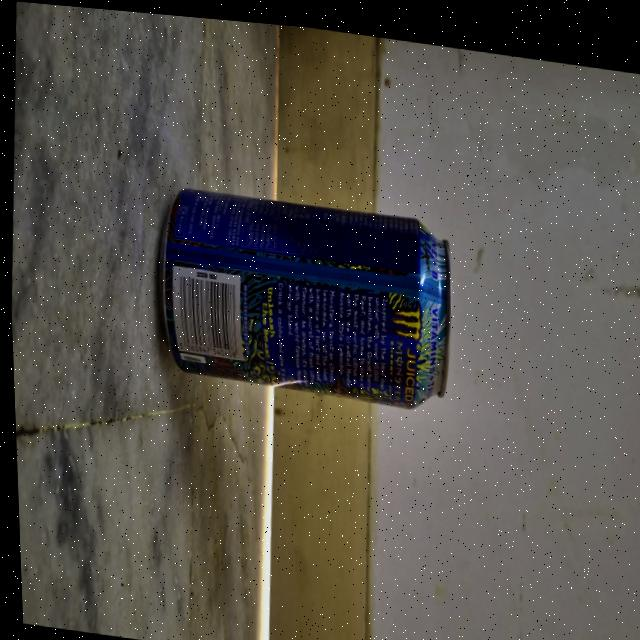Monster Aussie Lemonade: (141, 165, 467, 419)
